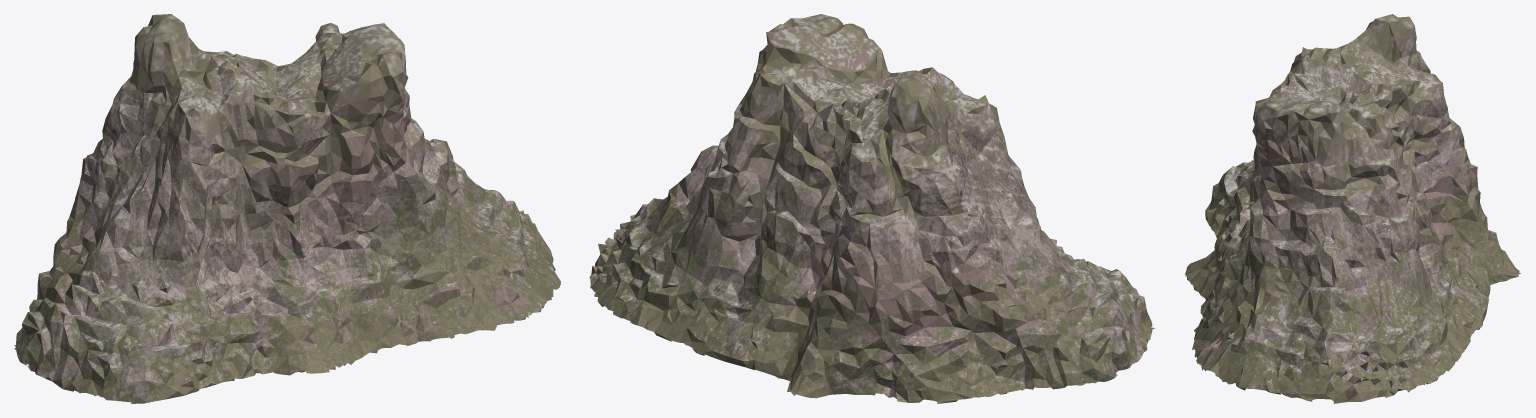
Rendered from Mountain.glb.
3 views of the same model, side by side, from view 1: azimuth 30°, elevation 25°; view 2: azimuth 150°, elevation 25°; view 3: azimuth 270°, elevation 25° (orthographic). The views are drawn at different scales.
Visible parts, largest first — view 1: ZBrush_defualt_group; view 2: ZBrush_defualt_group; view 3: ZBrush_defualt_group.
Part boxes in pixels (x1=…): ZBrush_defualt_group: x1=14, y1=14, x2=560, y2=403; ZBrush_defualt_group: x1=589, y1=14, x2=1154, y2=403; ZBrush_defualt_group: x1=1184, y1=14, x2=1520, y2=403.
Bounding box in the file's own units: 4.38 × 2.27 × 2.83.
Materials: 1 (1 with a texture image).
